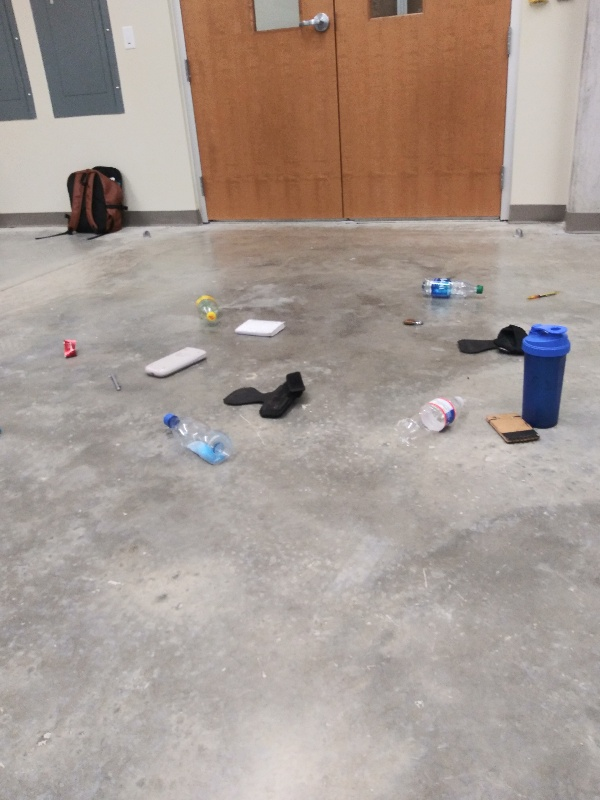bottle: (391, 391, 468, 450), (159, 407, 232, 466), (414, 276, 487, 305), (193, 288, 223, 332)
